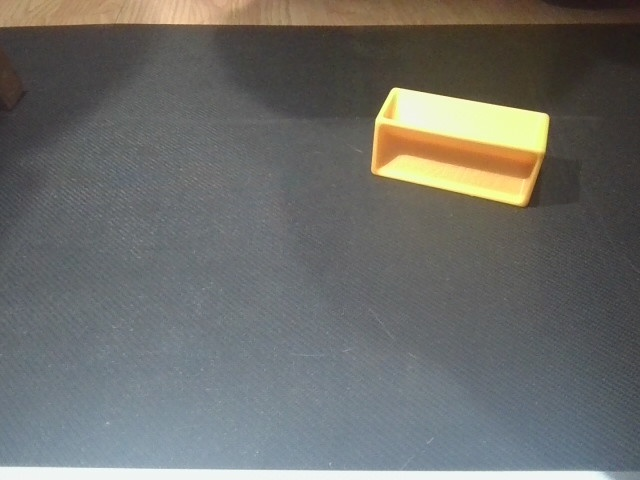YellowSample: (368, 84, 553, 210)
